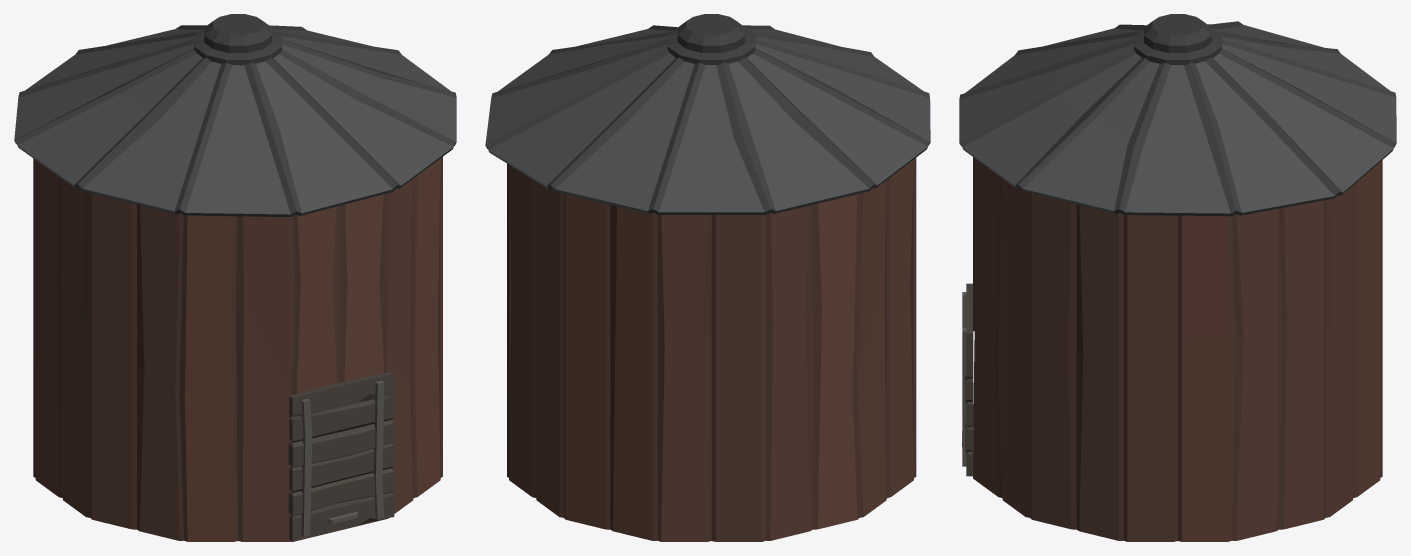
The model's file is SM_Props_Farm_Silo_Small.fbx.
3 renders of one model, left to right at view 1: azimuth 30°, elevation 25°; view 2: azimuth 150°, elevation 25°; view 3: azimuth 270°, elevation 25°, orthographic.
Parts seen in each view (by area): view 1: SM_Props_Farm_Silo_Small, SM_Props_Farm_Silo_Small_Door; view 2: SM_Props_Farm_Silo_Small; view 3: SM_Props_Farm_Silo_Small, SM_Props_Farm_Silo_Small_Door.
Part boxes in pixels (x1,y1,x2,y2): SM_Props_Farm_Silo_Small: [14, 14, 456, 541]; SM_Props_Farm_Silo_Small_Door: [288, 371, 394, 541]; SM_Props_Farm_Silo_Small: [485, 14, 930, 541]; SM_Props_Farm_Silo_Small: [959, 14, 1396, 541]; SM_Props_Farm_Silo_Small_Door: [962, 283, 973, 476].
Bounding box in the file's own units: 314 × 336 × 310.
